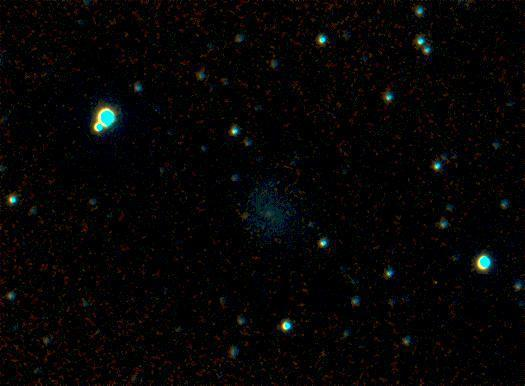star: (229, 200, 259, 230)
